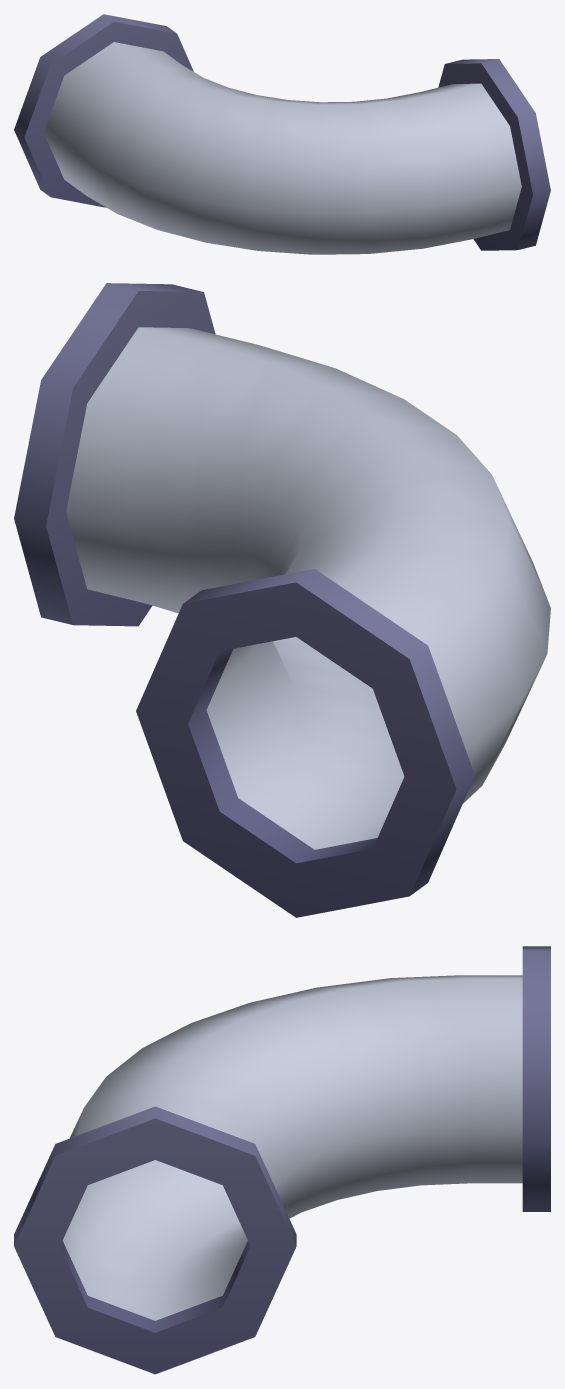
The model's file is kenney-factory-pipe-glass-large-bend.glb.
3 views of the same model, one above another, from view 1: azimuth 30°, elevation 25°; view 2: azimuth 150°, elevation 25°; view 3: azimuth 270°, elevation 25° (orthographic). The views are drawn at different scales.
Visible parts, largest first — view 1: pipe-glass-large-bend; view 2: pipe-glass-large-bend; view 3: pipe-glass-large-bend.
Part boxes in pixels (box(x1,y1,x2,y2)): pipe-glass-large-bend: box(14, 14, 550, 254); pipe-glass-large-bend: box(14, 283, 550, 917); pipe-glass-large-bend: box(14, 946, 550, 1374).
Size of the model in its own units: 2.85 by 1.5 by 2.85.
2 materials, 1 textured.
